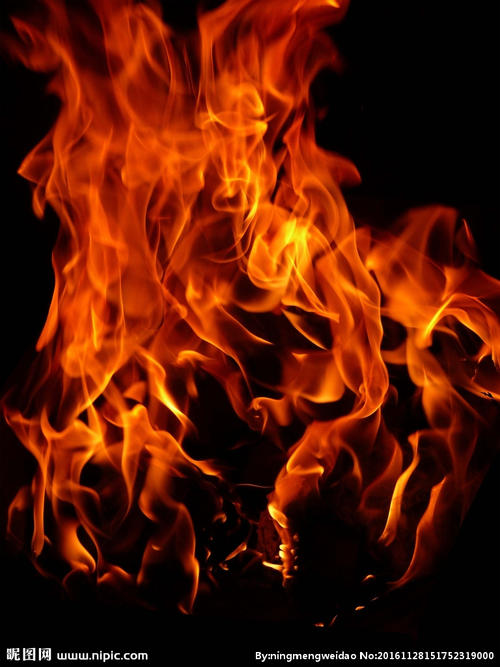fire: (44, 41, 450, 564)
